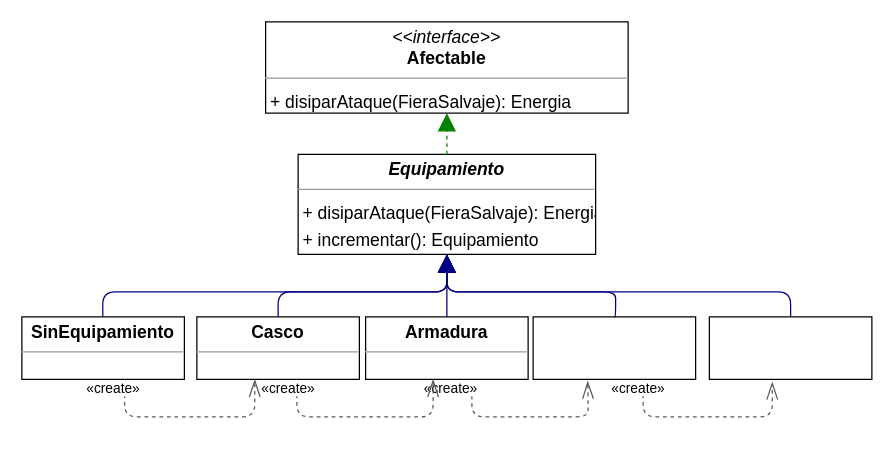
Image size: 894x456. Some labels were removed from this diagram. Each missing label, with the box of its shape:
EscudoYEspada: (532, 316, 696, 379)
Llave: (708, 316, 872, 379)
